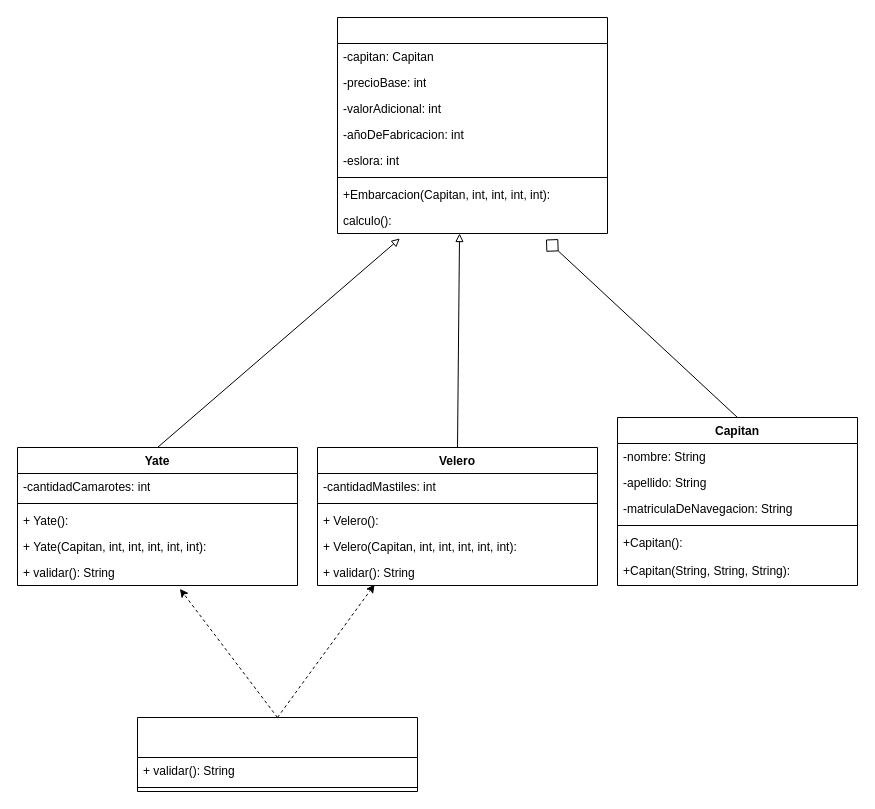
Image size: 875x809. Some labels were removed from this diagram. The box of each missing label's shape, as (x1, y1, x2, y2) in pixels:
Embarcaciones: (336, 16, 608, 234)
«interface» Validacion: (136, 716, 418, 792)
